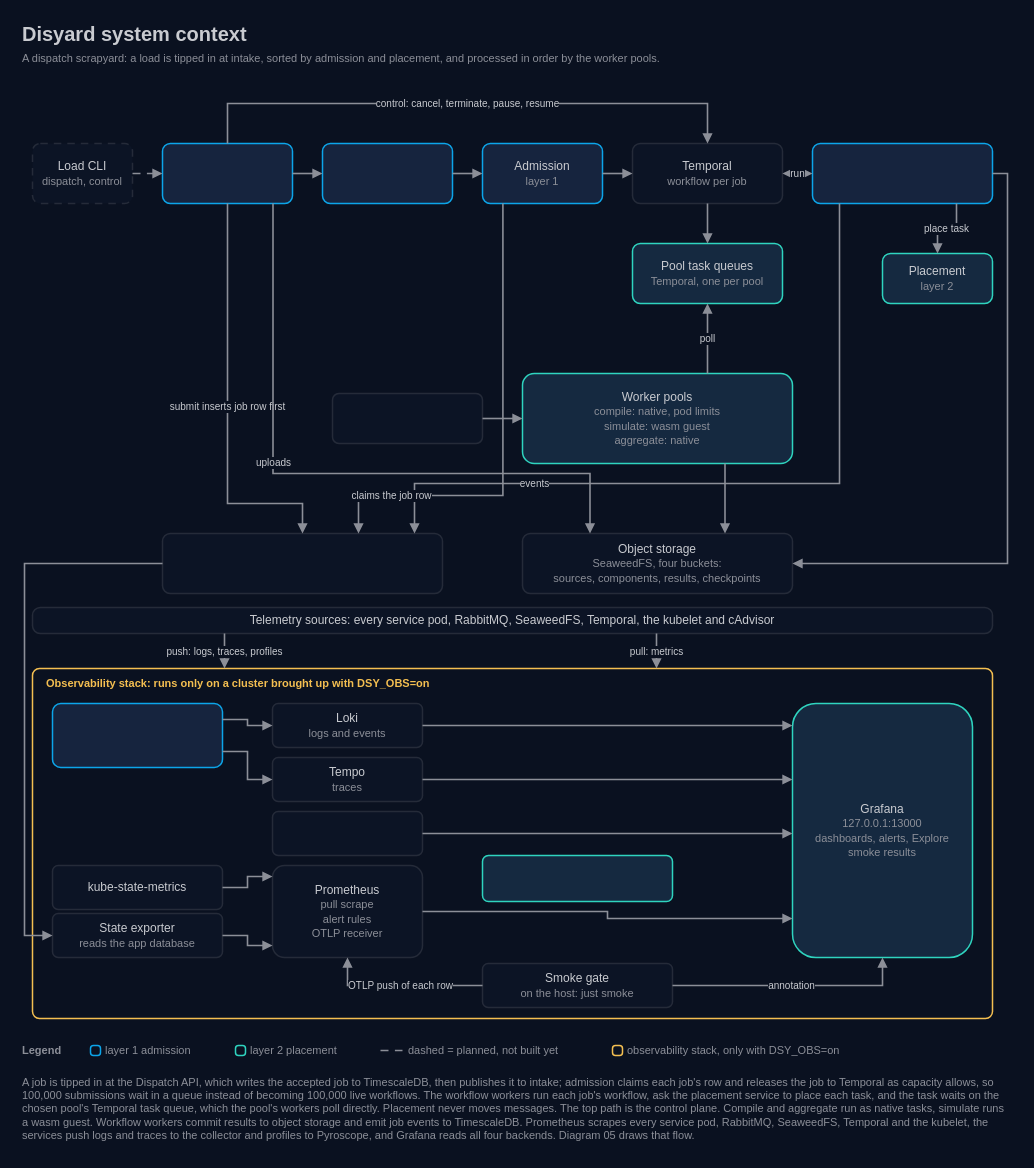
Image size: 1034x1168. Some labels were removed from this diagram. The shapes that lost their labels are listed below. From the top down, each one's centre as x and y in pixels, then its label:
At (x=227, y=173): "Dispatch API batch submit, control".
At (x=387, y=173): "Intake queues RabbitMQ, priority".
At (x=902, y=173): "Workflow workers job workflow, emit, commit".
At (x=407, y=418): "Package mirror compile pool only".
At (x=302, y=563): "TimescaleDB accepted jobs, event history".
At (x=137, y=735): "Collector OTLP logs and traces Kubernetes event watch".
At (x=347, y=833): "Pyroscope profiles".
At (x=577, y=878): "Temporal UI 127.0.0.1:18233, the per-job view".
